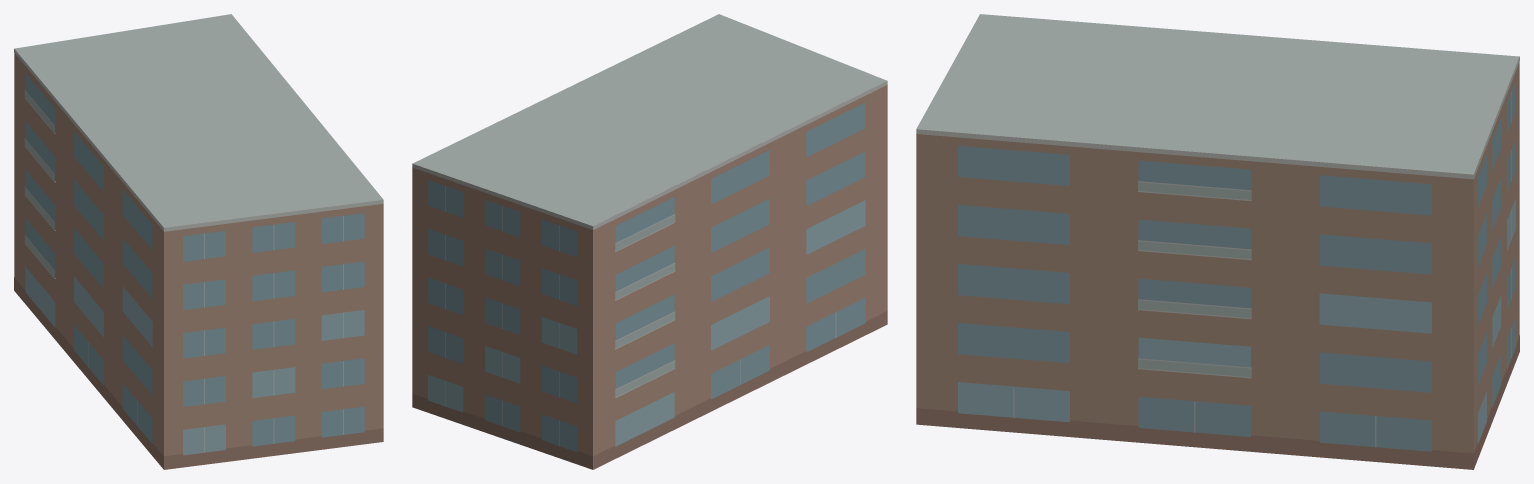
Rendered from survey-upis-32636886.glb.
3 views of the same model, side by side, from view 1: azimuth 30°, elevation 25°; view 2: azimuth 150°, elevation 25°; view 3: azimuth 270°, elevation 25° (orthographic). The views are drawn at different scales.
Visible parts, largest first — view 1: survey-upis-32636886.tmp; view 2: survey-upis-32636886.tmp; view 3: survey-upis-32636886.tmp.
Part boxes in pixels (<box>): survey-upis-32636886.tmp: <box>14,14,383,469</box>; survey-upis-32636886.tmp: <box>412,14,887,469</box>; survey-upis-32636886.tmp: <box>916,14,1519,469</box>.
Bounding box in the file's own units: 17.8 × 15.25 × 28.27.
